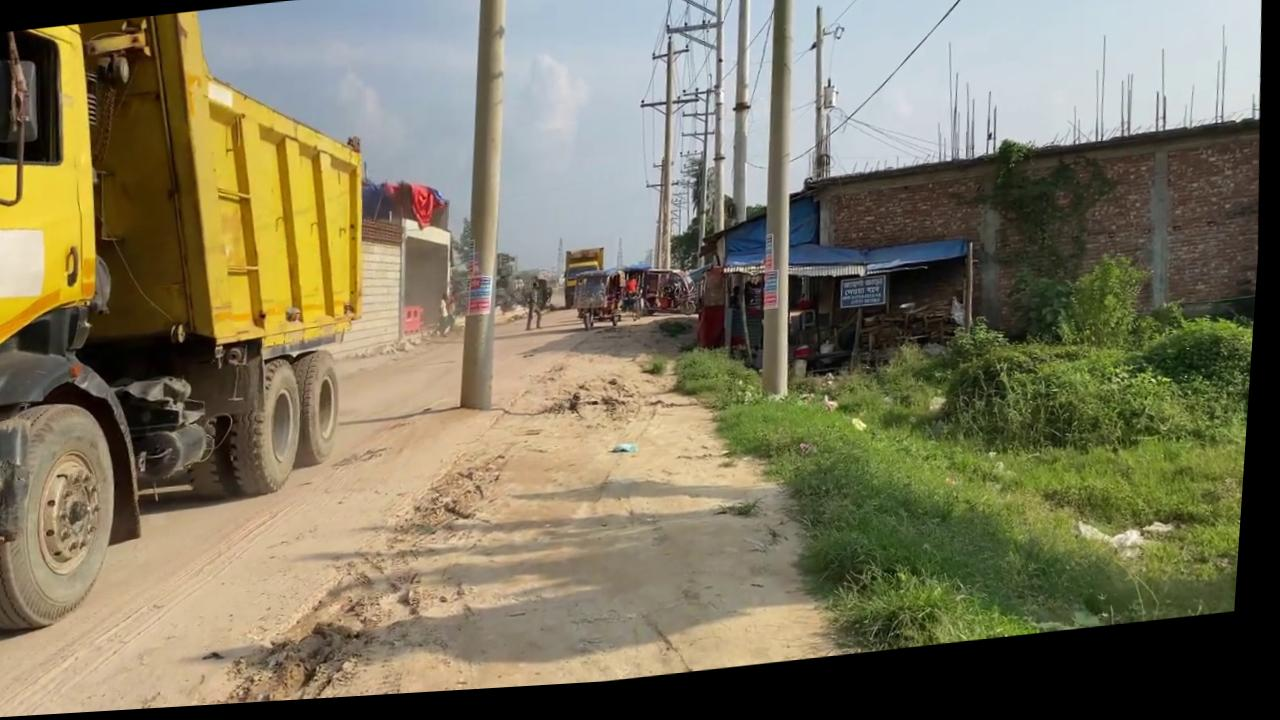Muddy road: (0, 277, 892, 720)
Pole: (441, 0, 530, 420), (743, 0, 818, 409), (719, 0, 765, 235), (698, 0, 741, 244), (646, 42, 689, 280)
Tree: (0, 0, 399, 637), (640, 272, 703, 327), (563, 254, 610, 317)
